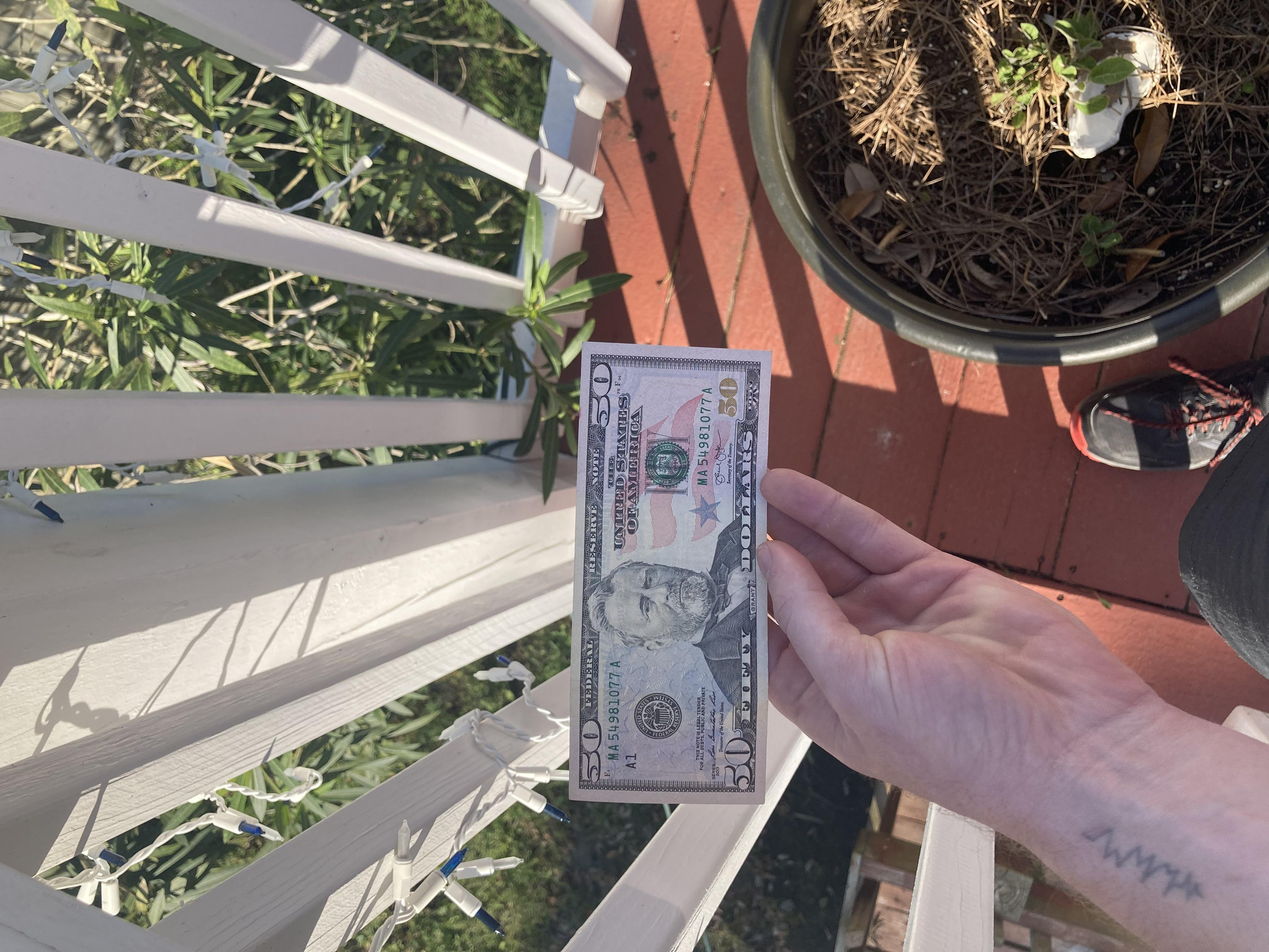fifty-front: (197, 428, 810, 579)
